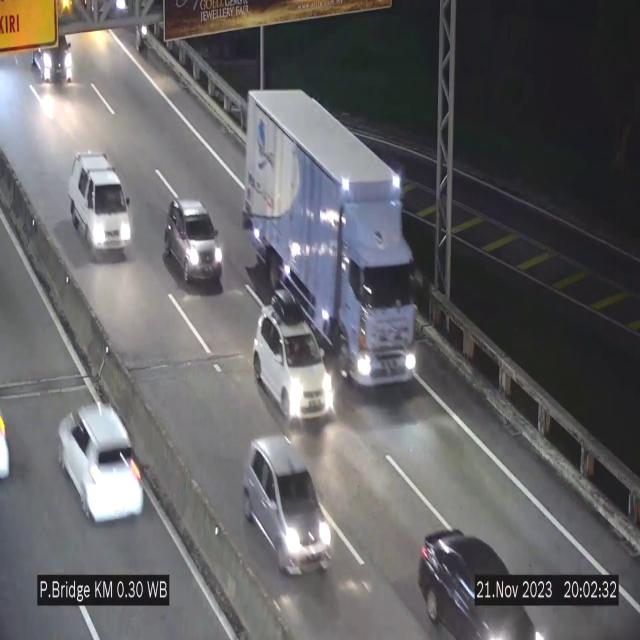Car: (49, 375, 158, 533), (406, 507, 535, 640), (253, 290, 341, 434), (243, 438, 331, 574), (69, 154, 132, 258), (163, 198, 223, 288), (27, 27, 85, 92)
Motorcycle: (130, 4, 152, 64)
Truck: (242, 84, 420, 390)
